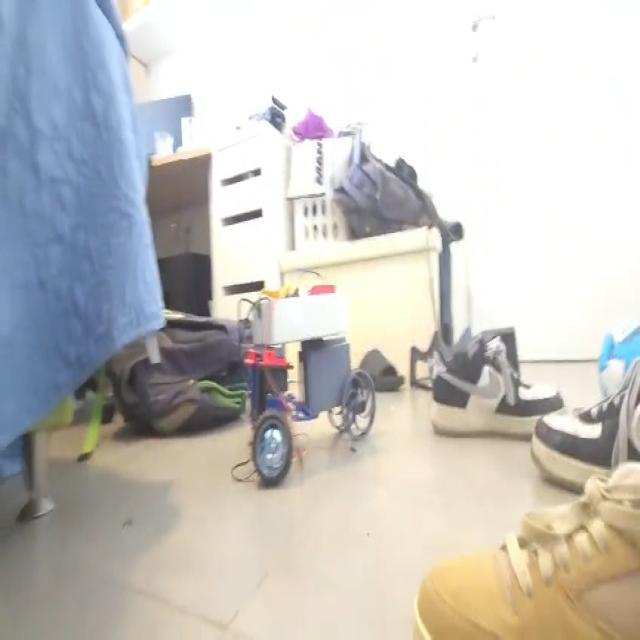Robot: (241, 282, 376, 486)
